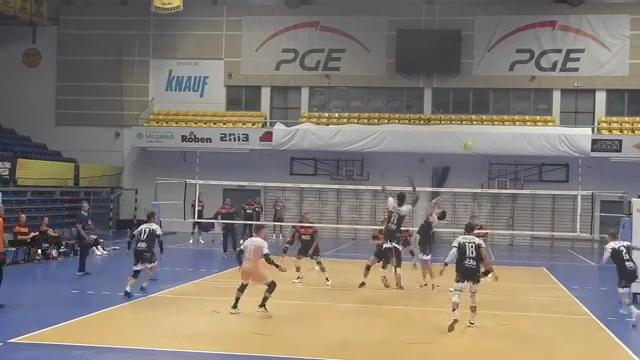Player: (440, 223, 496, 331), (230, 224, 285, 316), (383, 184, 418, 288), (124, 211, 163, 297), (601, 233, 639, 319), (293, 225, 330, 285), (358, 220, 387, 287), (281, 220, 302, 259), (399, 229, 416, 268)
Set: (411, 193, 446, 295)
ball: (461, 137, 475, 152)
